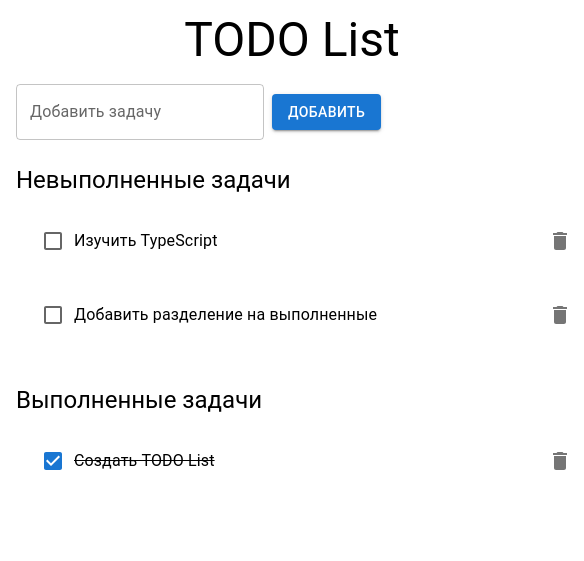
Test: App › должен добавлять новую задачу
Step 1. Type "New Task" into the field → (140, 112), box [16,84,264,140]
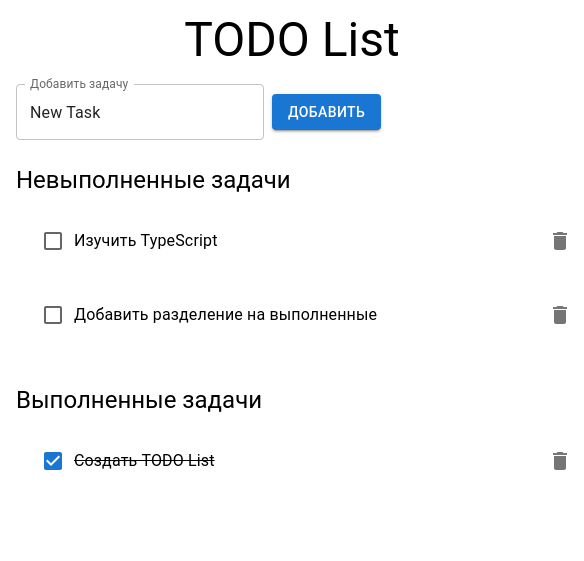
Step 2. Click the button "Добавить" → (327, 112), box [272,94,381,130]
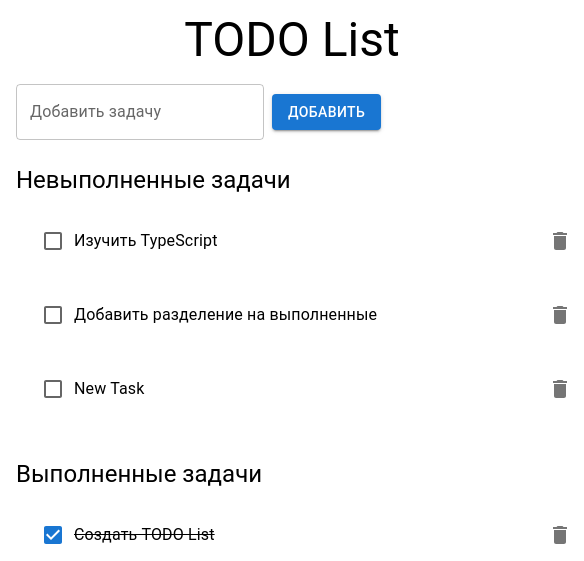
expect the text "New Task" is shown: met, box [74,379,144,398]
